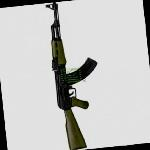Senapan: (34, 0, 110, 150)
